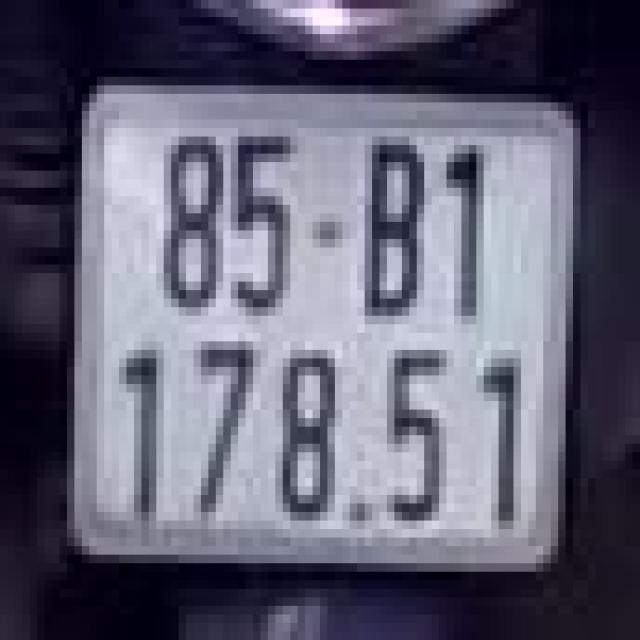1: (469, 337, 528, 542), (435, 136, 495, 333), (112, 337, 171, 525)
5: (379, 341, 462, 529), (230, 115, 298, 320)
7: (190, 337, 249, 533)
8: (268, 333, 342, 529), (156, 120, 224, 324)
B: (353, 120, 428, 324)
